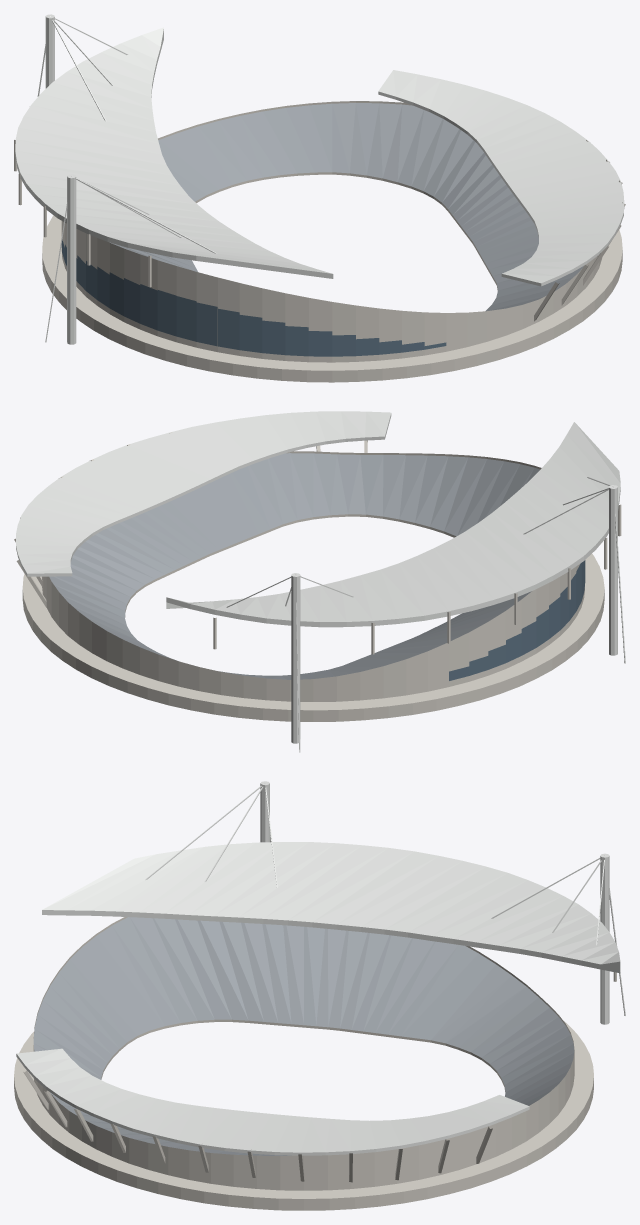
File: istanbul-ataturk-olympic-stadium.glb
3 views of the same model, one above another, from view 1: azimuth 30°, elevation 25°; view 2: azimuth 150°, elevation 25°; view 3: azimuth 270°, elevation 25° (orthographic).
Parts seen in each view (by area): view 1: Atatürk Olympic Stadium; view 2: Atatürk Olympic Stadium; view 3: Atatürk Olympic Stadium.
Boxes of the visible parts, x1,y1,x2,y2 form: Atatürk Olympic Stadium: (14,14,625,382); Atatürk Olympic Stadium: (14,411,625,752); Atatürk Olympic Stadium: (14,781,625,1210).
Size of the model in its own units: 297 by 85.24 by 282.
